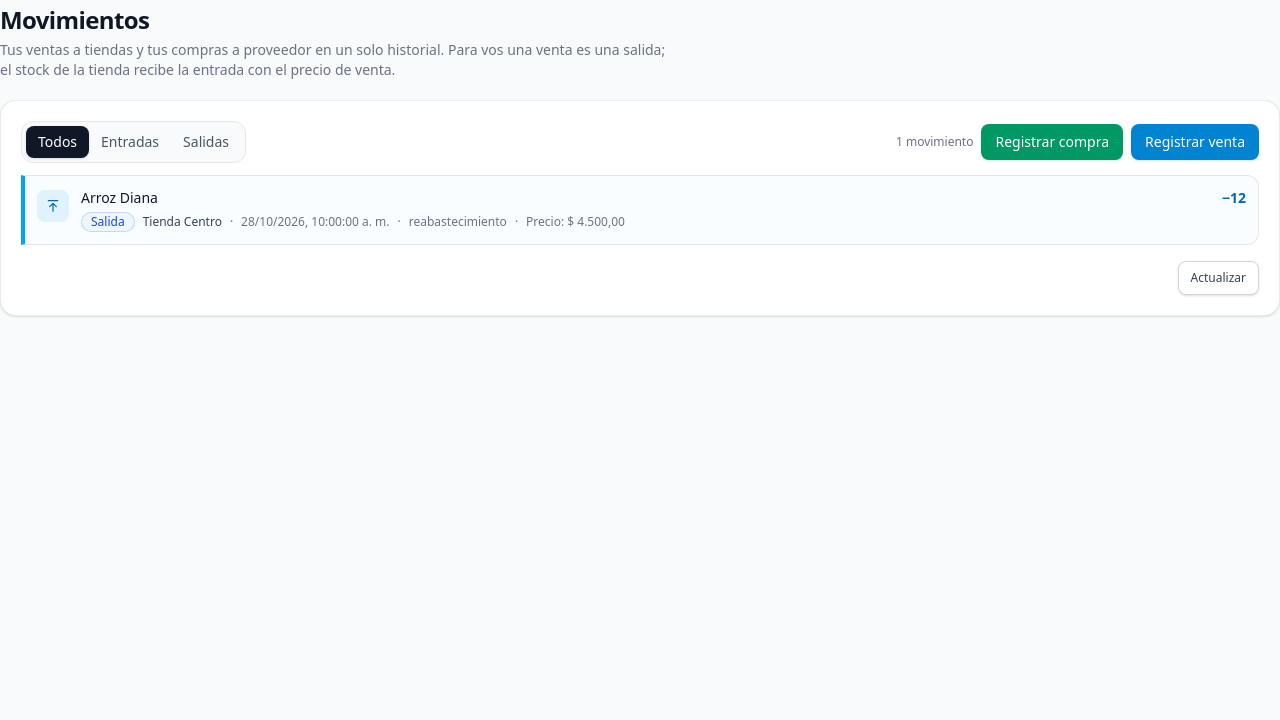
Test: DistributorMovementsPage · historial del distribuidor (S19) › 0038: «últimos vendidos» agrega el producto con un toque
Click the button "Registrar venta" at (1195, 142), box [1131, 124, 1259, 160]
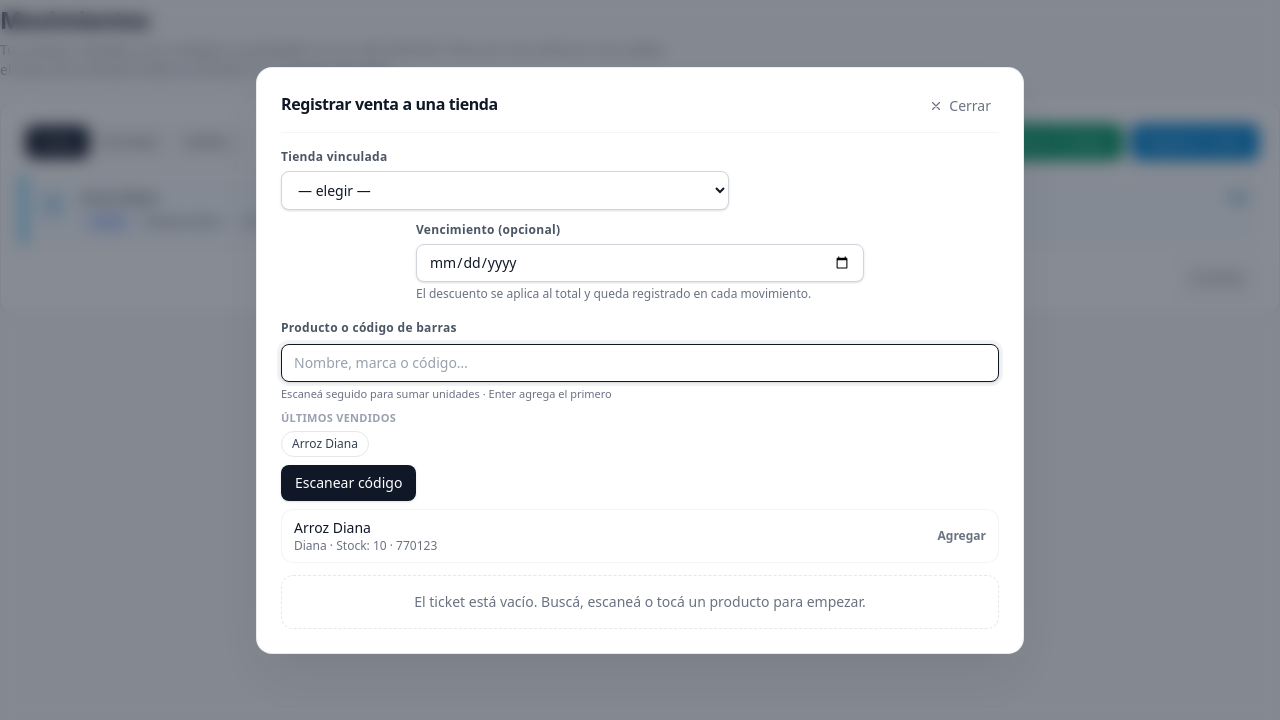
Click the button with aria-label "Agregar Arroz Diana de últimos vendidos" at (325, 444), box [281, 430, 369, 456]
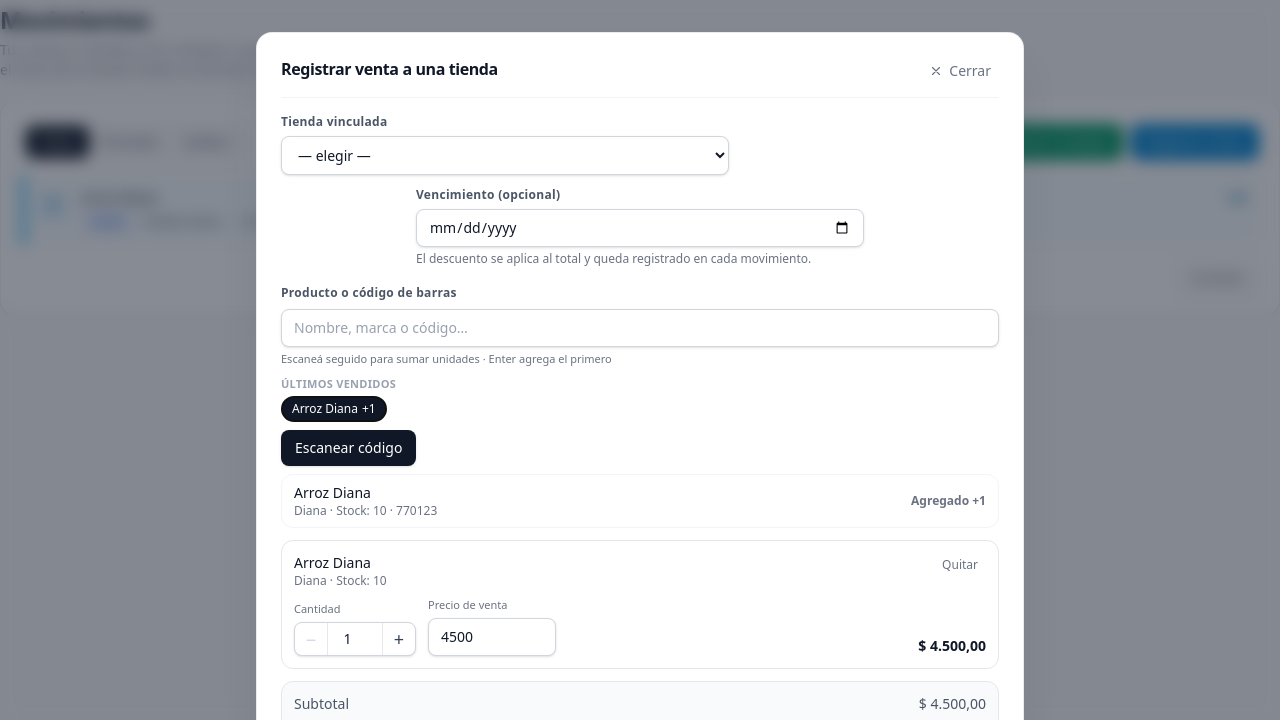
Now the number field named "Precio de venta de Arroz Diana" is shown, box [428, 618, 556, 656]
